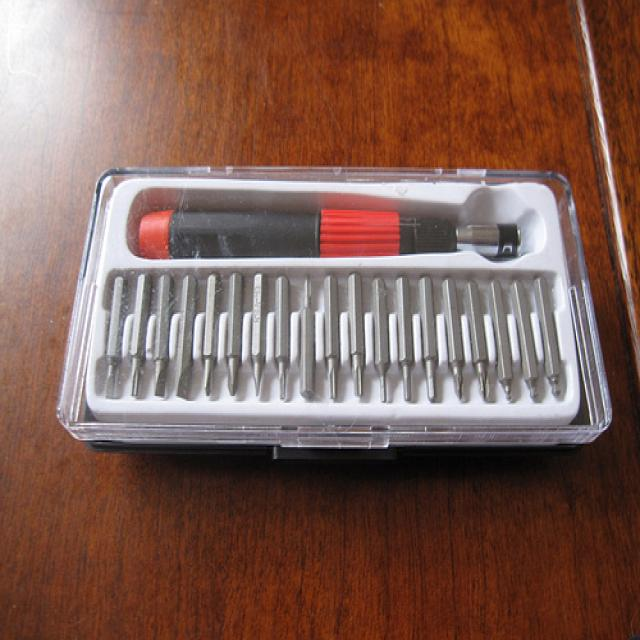screw_driver: (132, 204, 532, 262)
